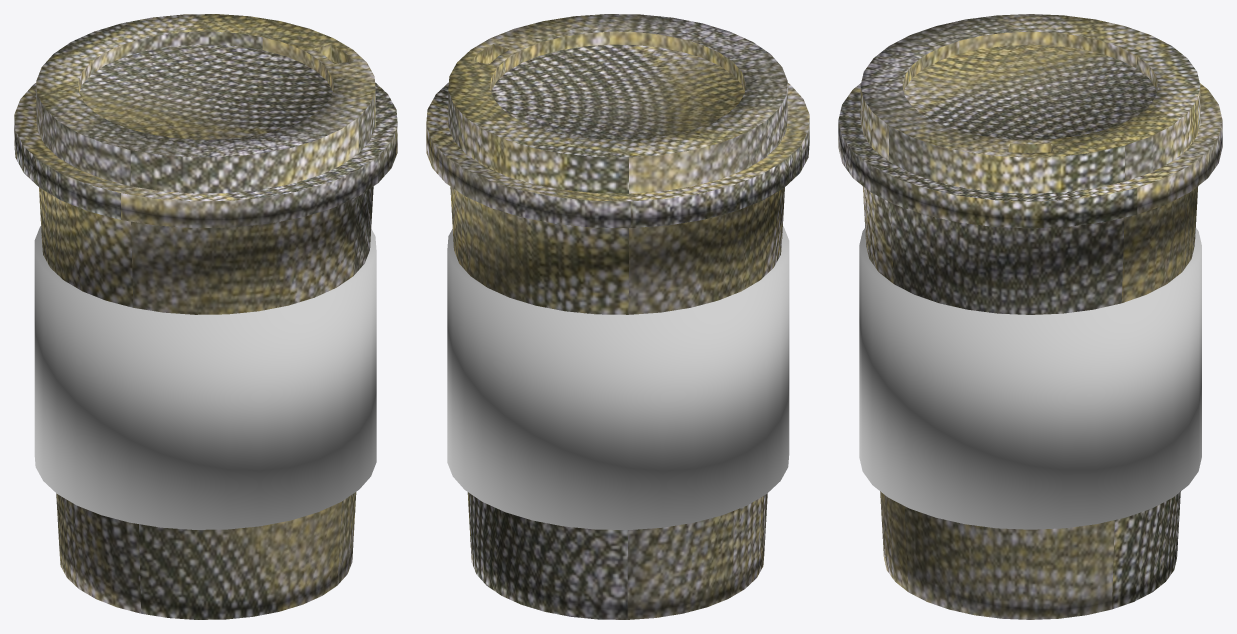
The model's file is coffeecupfinal.fbx.
The picture shows the model from 3 angles, left to right: view 1: azimuth 30°, elevation 25°; view 2: azimuth 150°, elevation 25°; view 3: azimuth 270°, elevation 25°; orthographic projection.
Visible parts, largest first — view 1: Cylinder.001; view 2: Cylinder.001; view 3: Cylinder.001.
Boxes of the visible parts, box(x1,y1,x2,y2) form: Cylinder.001: box(14, 14, 397, 619); Cylinder.001: box(426, 14, 809, 619); Cylinder.001: box(838, 14, 1222, 619).
Size of the model in its own units: 177 by 240 by 177.
